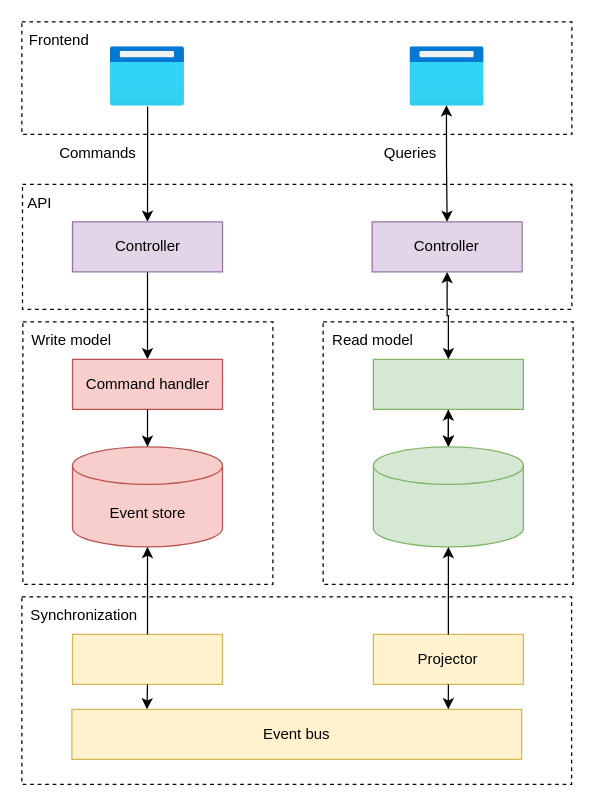
This 595x806 diagram has some shape labels left out. The shapes that lost their labels are listed below. From the top down, each one's box as (x1, y1, x2, y2) in pixels, then its label:
(372, 358, 523, 409): Query handler
(372, 446, 523, 547): Database
(71, 633, 222, 684): Synchronizer
